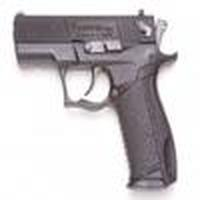gun: (14, 12, 181, 189)
